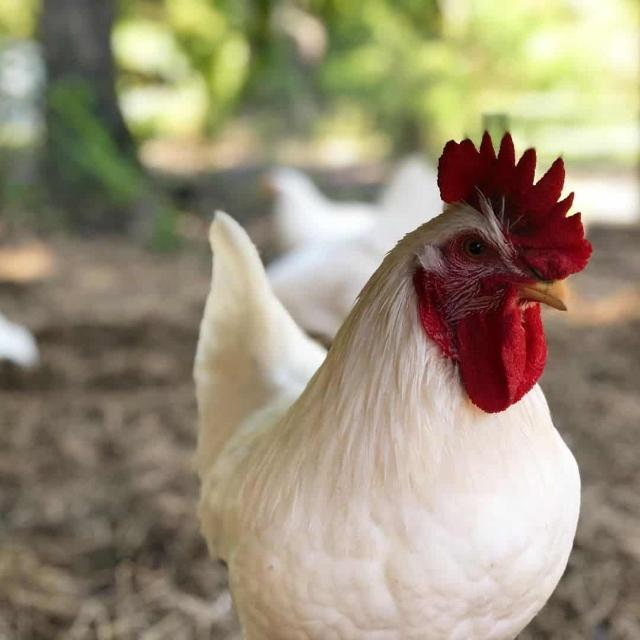Chicken: (194, 128, 594, 640)
